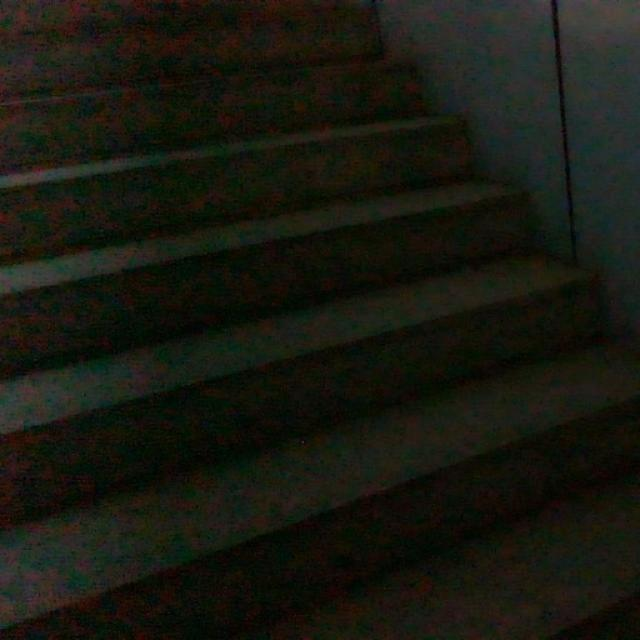stair: (0, 2, 631, 634)
